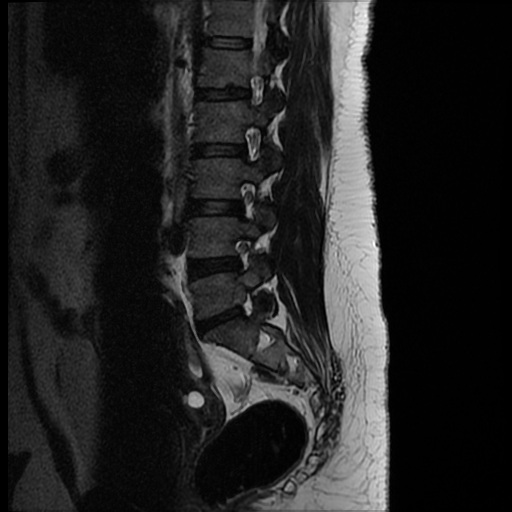RFS0: (227, 114, 272, 167), (224, 170, 263, 223), (234, 63, 273, 115), (221, 225, 260, 276)
